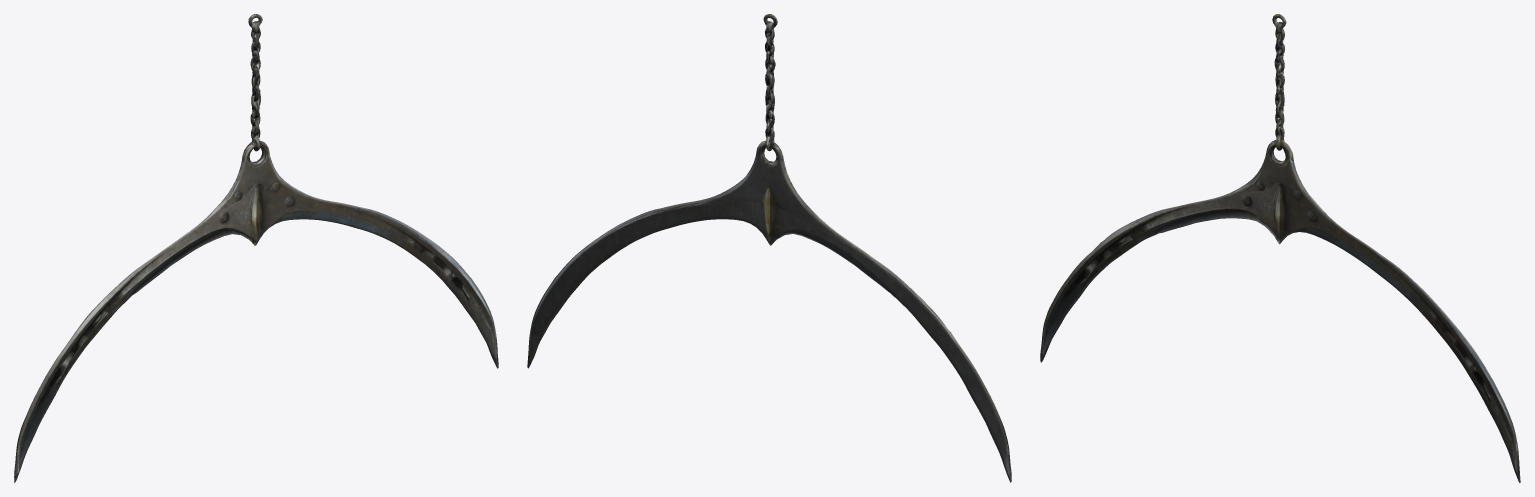
The picture shows the model from 3 angles, left to right: view 1: azimuth 30°, elevation 25°; view 2: azimuth 150°, elevation 25°; view 3: azimuth 330°, elevation 25°; orthographic projection.
Bounding box in the file's own units: 2 × 1.63 × 0.0495.
1 material, 1 textured.
